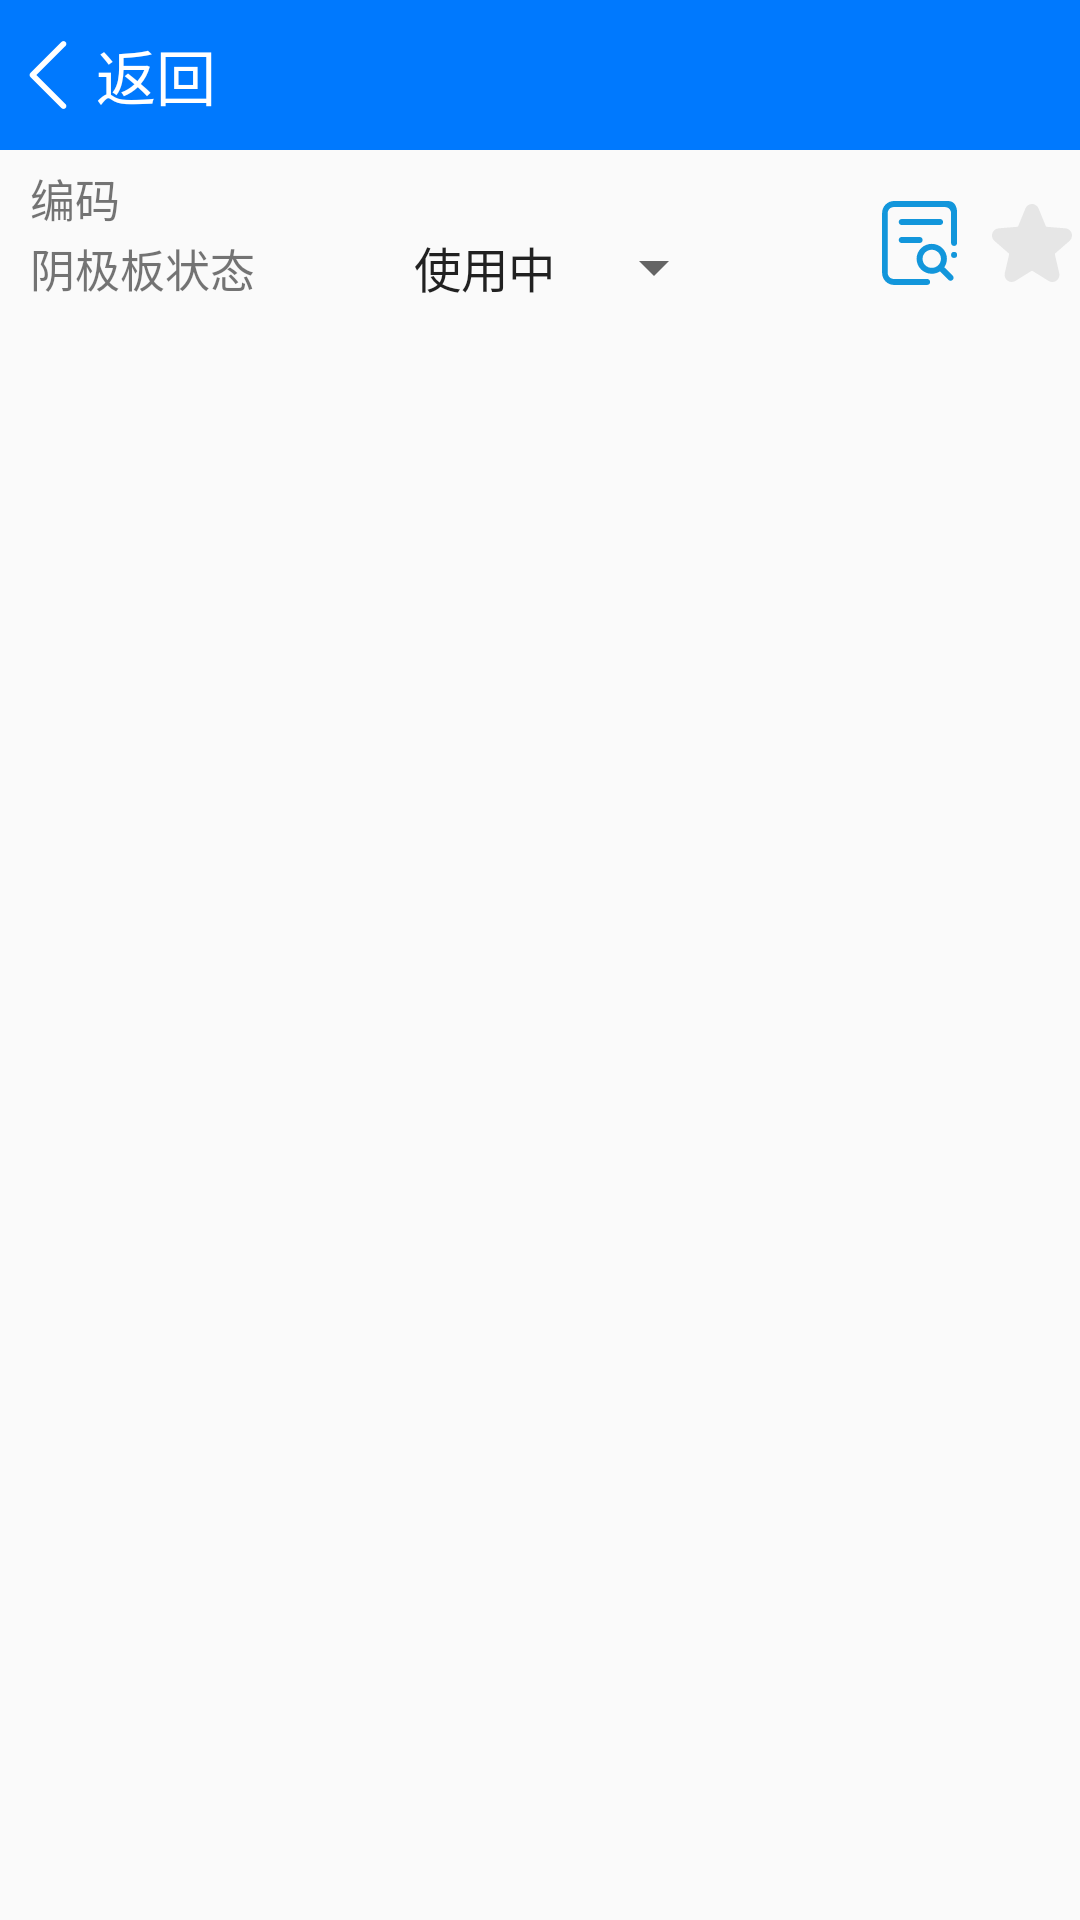

Icons on this 1080w x 1920h Android screen, each with the point to tap as point (x, y):
browse: point (919, 243)
left arrow: point (48, 75)
